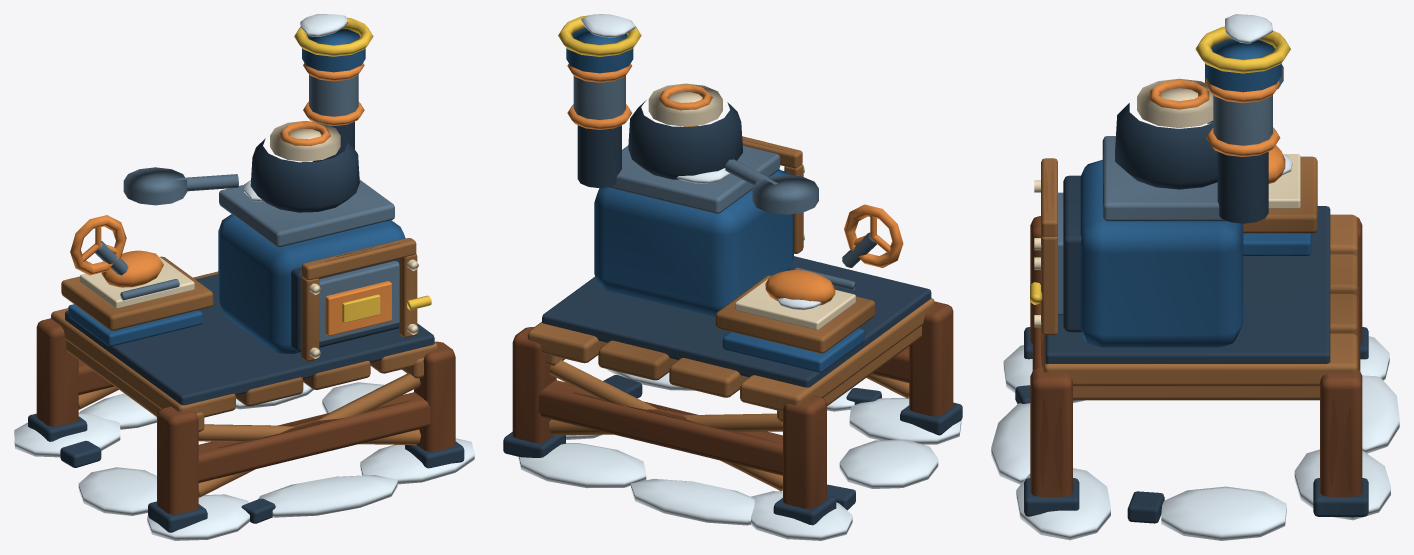
Rendered from cooker_processor.glb.
3 renders of one model, left to right at view 1: azimuth 30°, elevation 25°; view 2: azimuth 150°, elevation 25°; view 3: azimuth 270°, elevation 25°, orthographic. The views are drawn at different scales.
Parts seen in each view (by area): view 1: cooker_processor; view 2: cooker_processor; view 3: cooker_processor.
Part boxes in pixels (x1,y1,x2,y2): cooker_processor: (14,14,474,540); cooker_processor: (503,14,962,540); cooker_processor: (991,14,1399,540).
Size of the model in its own units: 2.28 by 2.51 by 1.92.
